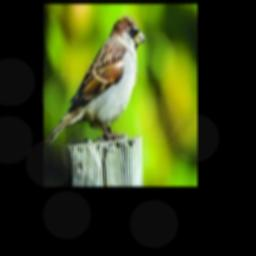Sparrow: (45, 16, 145, 145)
